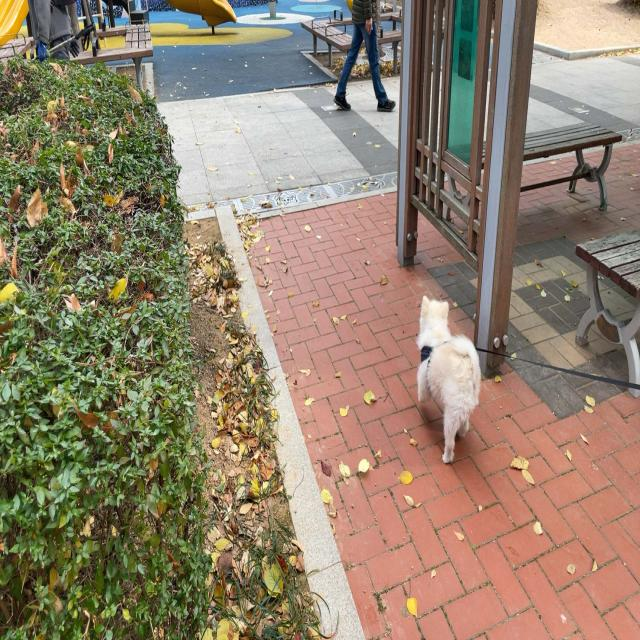Dog: (418, 296, 481, 459)
